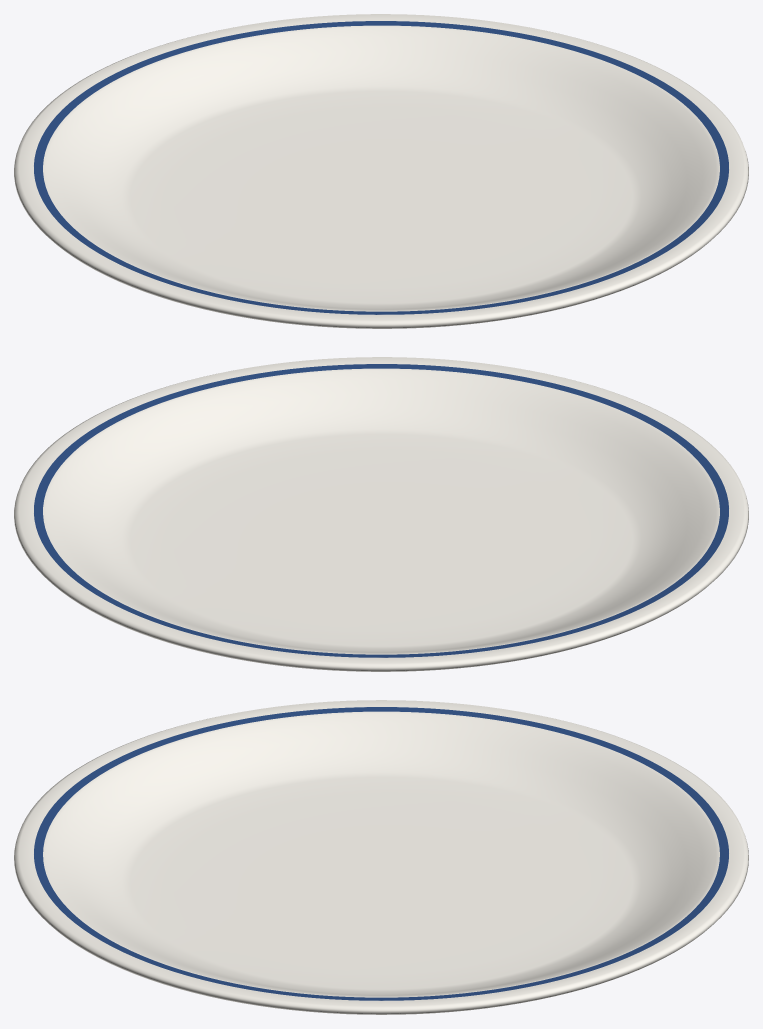
Rendered from g-plato-con-imagen.glb.
The picture shows the model from 3 angles, top to bottom: view 1: azimuth 30°, elevation 25°; view 2: azimuth 150°, elevation 25°; view 3: azimuth 270°, elevation 25°; orthographic projection.
Parts seen in each view (by area): view 1: Plato; view 2: Plato; view 3: Plato.
Boxes of the visible parts, bbox=[...] form: Plato: bbox=[14, 14, 748, 328]; Plato: bbox=[14, 357, 748, 671]; Plato: bbox=[14, 700, 748, 1014].
Bounding box in the file's own units: 0.2812 × 0.0219 × 0.2812.
Materials: 1 (1 with a texture image).
